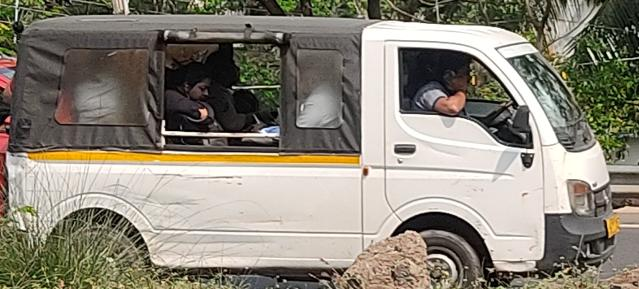Auto: (11, 13, 620, 287)
